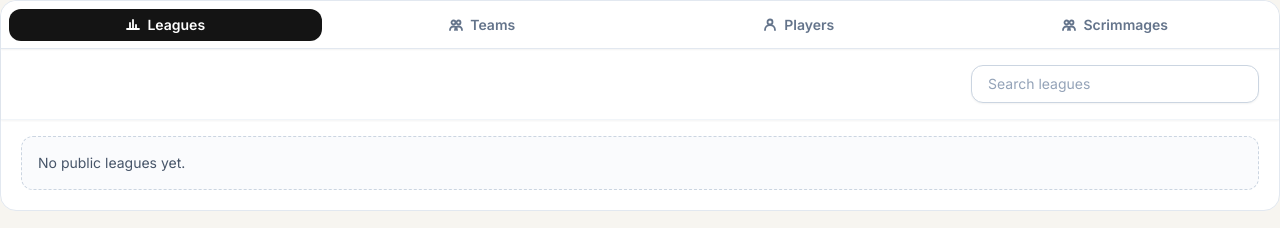
Test case: HomePage › renders empty states when no public leagues or teams are available
This screenshot has width=1280, height=228.
Expected: the text "No public leagues yet." is shown, [21,136,1259,190]
Click the tab "Teams": click(482, 25) [326,9,638,41]
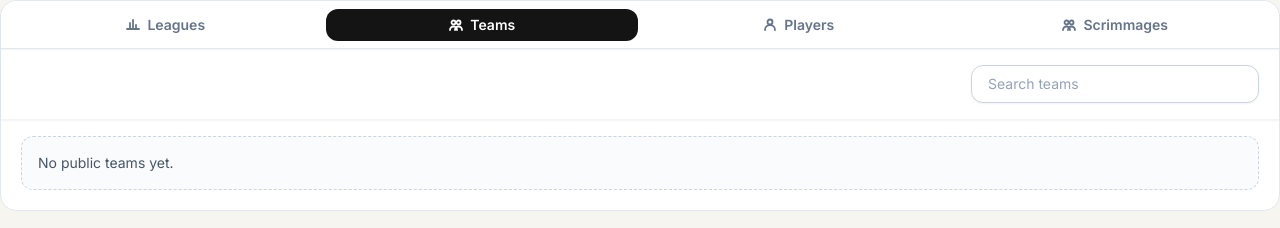
Expected: the text "No public teams yet." is shown, [21,136,1259,190]
